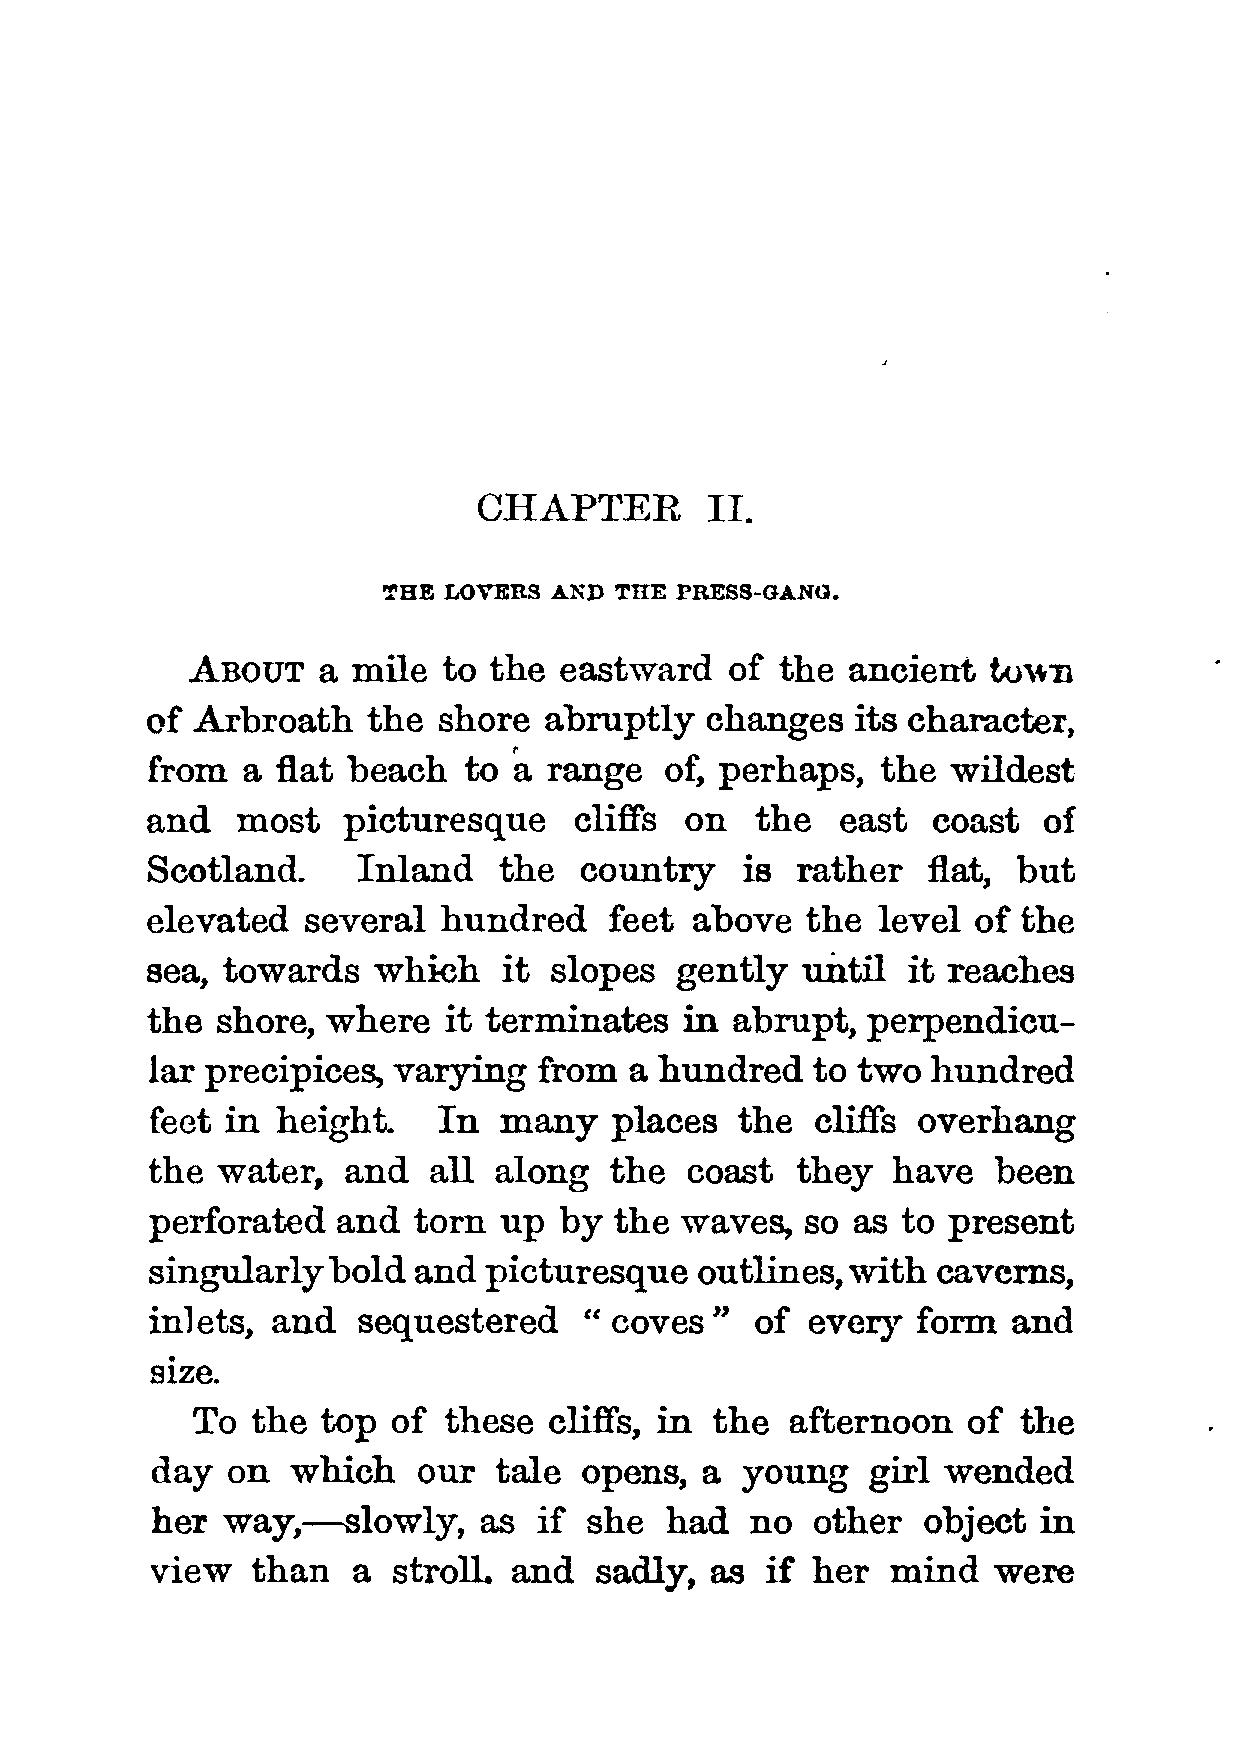chapter: (378, 490, 839, 603)
content: (140, 651, 1080, 1594)
